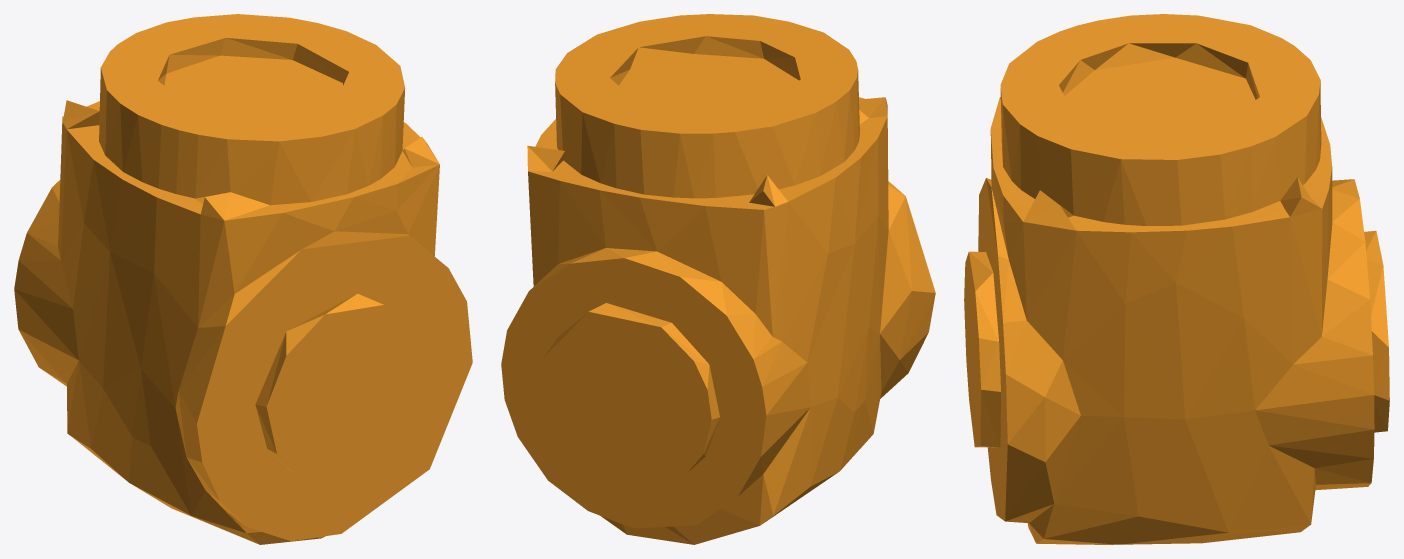
Rendered from KukaKR6R700CRLink5.dae.
3 views of the same model, side by side, from view 1: azimuth 30°, elevation 25°; view 2: azimuth 150°, elevation 25°; view 3: azimuth 270°, elevation 25° (orthographic). The views are drawn at different scales.
Visible parts, largest first — view 1: KukaKR6R700CRLink5; view 2: KukaKR6R700CRLink5; view 3: KukaKR6R700CRLink5.
Boxes of the visible parts, bbox=[...] form: KukaKR6R700CRLink5: bbox=[14, 14, 472, 544]; KukaKR6R700CRLink5: bbox=[501, 14, 935, 544]; KukaKR6R700CRLink5: bbox=[964, 14, 1389, 544].
Bounding box in the file's own units: 0.0901 × 0.1064 × 0.1239.
